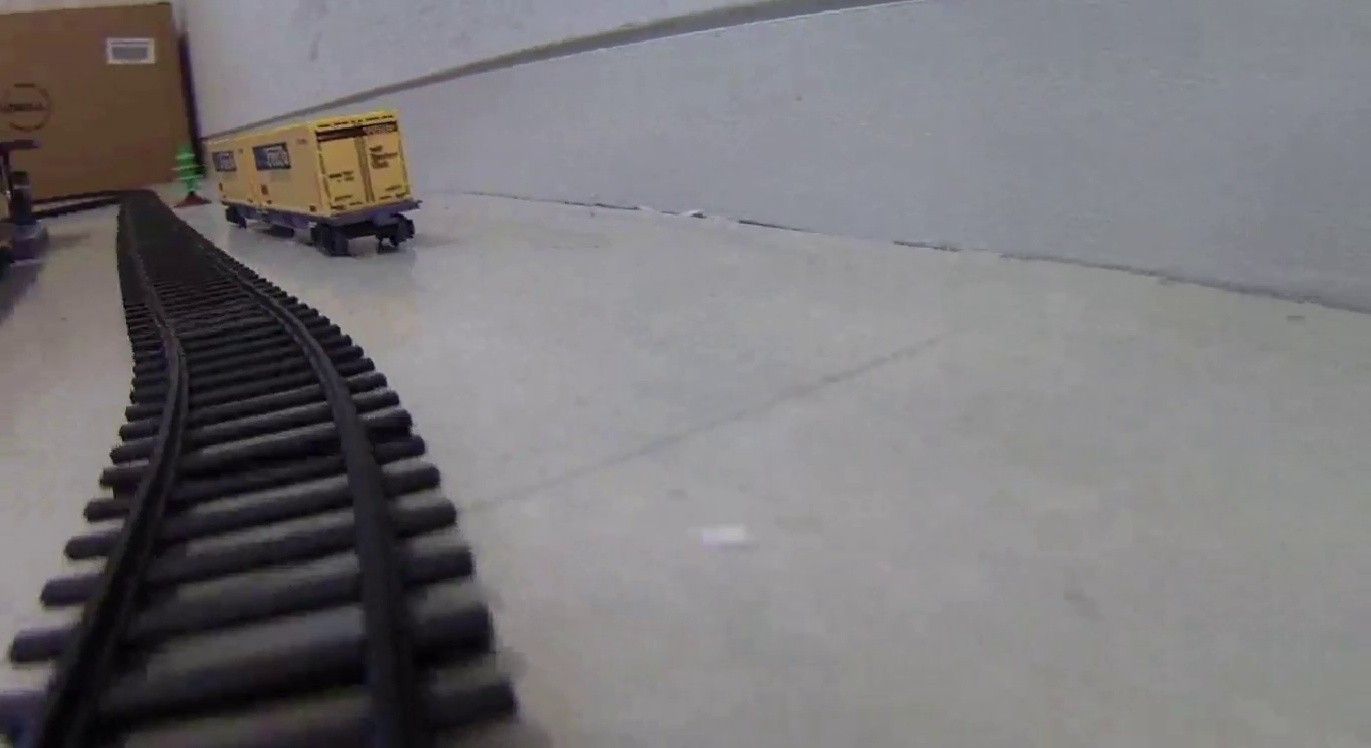tree: (166, 142, 212, 206)
